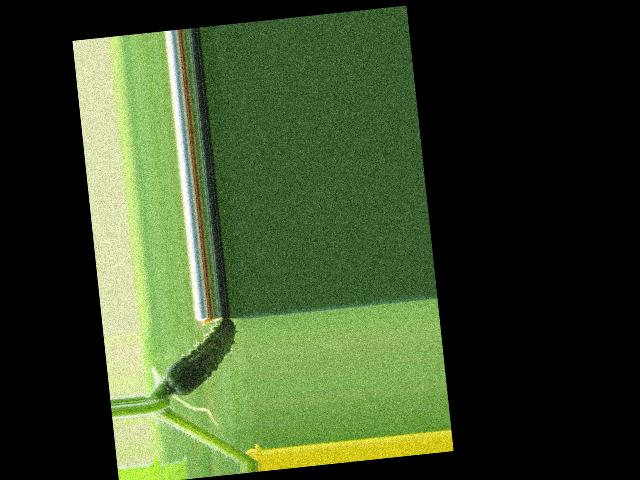cucumber: (160, 317, 243, 398)
